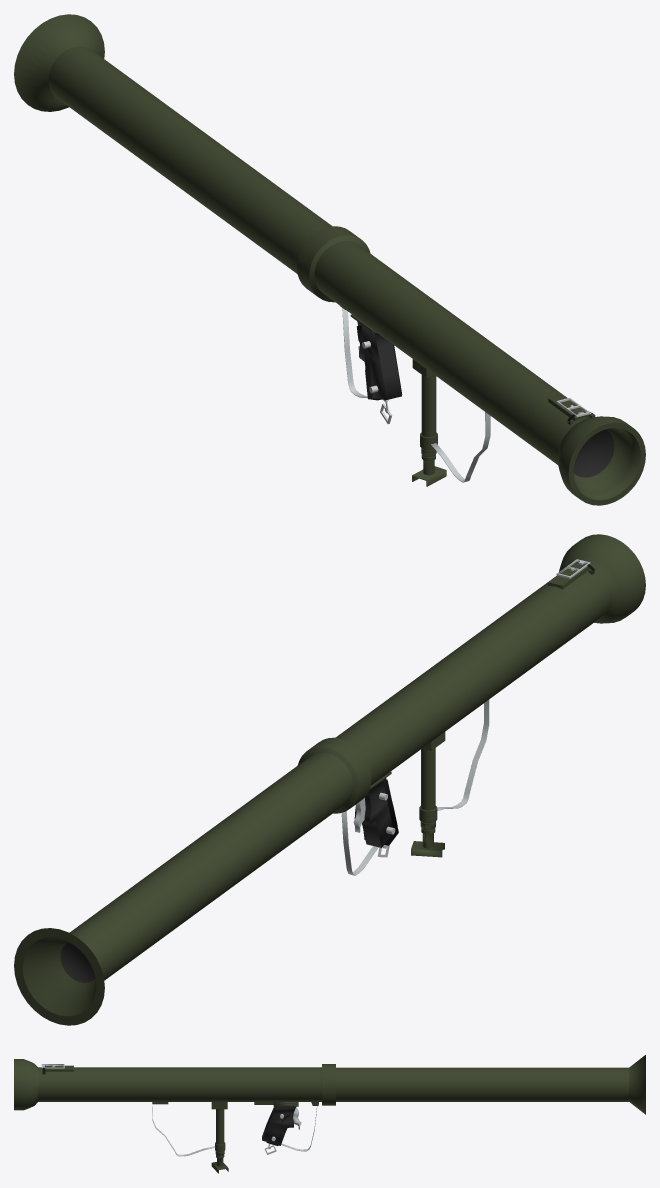
The model's file is Rocket Launcher.fbx.
3 views of the same model, one above another, from view 1: azimuth 30°, elevation 25°; view 2: azimuth 150°, elevation 25°; view 3: azimuth 270°, elevation 25° (orthographic). The views are drawn at different scales.
Parts seen in each view (by area): view 1: Cylinder.006; view 2: Cylinder.006; view 3: Cylinder.006.
Part boxes in pixels (x1,y1,x2,y2): Cylinder.006: [14, 14, 645, 505]; Cylinder.006: [14, 534, 645, 1025]; Cylinder.006: [14, 1055, 645, 1173].
Bounding box in the file's own units: 213 × 433 × 2223.
